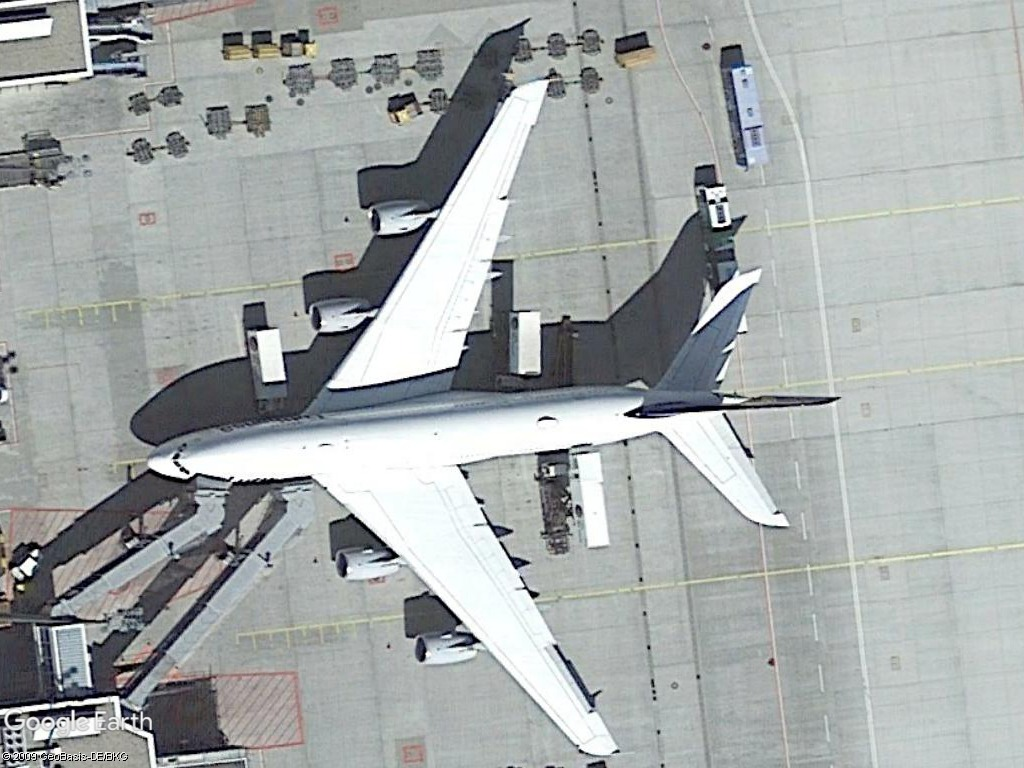airliner: (135, 77, 854, 756)
bus: (718, 60, 770, 173)
stairtruck: (86, 8, 157, 52), (88, 50, 153, 82)
truck: (239, 318, 293, 418)
